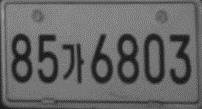0: (143, 32, 165, 83)
3: (168, 33, 191, 85)
5: (37, 33, 58, 84)
6: (90, 32, 113, 83)
8: (116, 32, 140, 83), (10, 32, 33, 84)
가: (61, 42, 85, 83)
